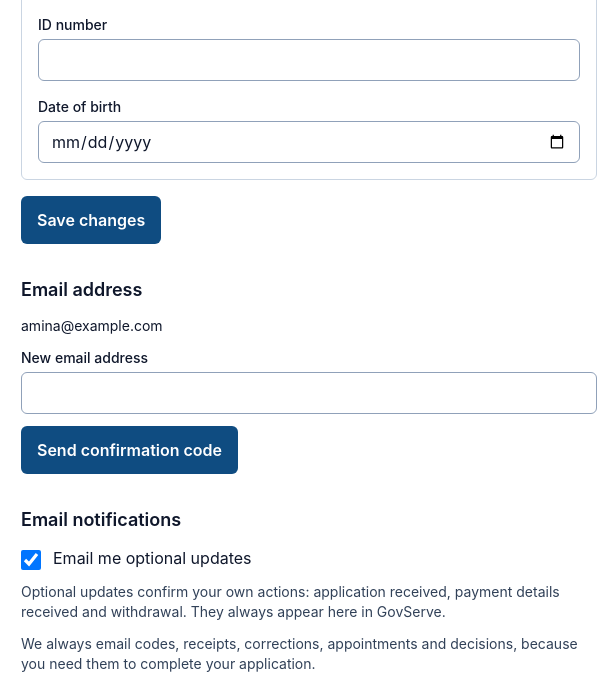
Test case: notifications › should turn optional emails off from the profile
The image size is (614, 689).
(page scrolled)
Click the checkbox labelled "Email me optional updates".
click(31, 560)  # box [21,550,41,570]
(page scrolled)
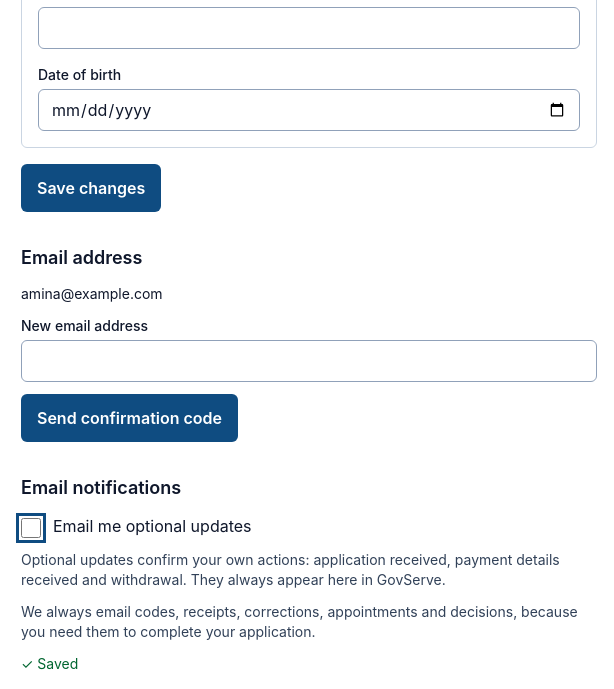
Check: the text "✓ Saved" is shown, box [21,655,78,672]
